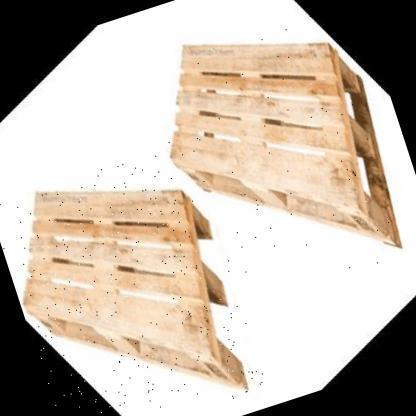pallet: (170, 43, 405, 249), (23, 191, 249, 396)
